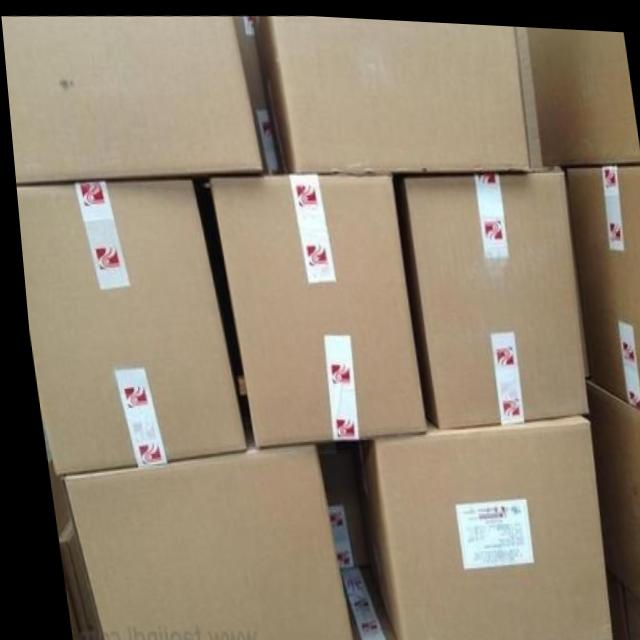box: (51, 392, 342, 640), (13, 177, 240, 478), (341, 408, 601, 640), (207, 169, 420, 443), (389, 165, 582, 425), (255, 13, 540, 174), (1, 14, 265, 187), (561, 158, 640, 408), (528, 22, 640, 159), (579, 370, 640, 607), (307, 437, 358, 563), (48, 520, 92, 640), (239, 32, 276, 174), (328, 558, 388, 640), (33, 411, 63, 539), (611, 579, 640, 640)
